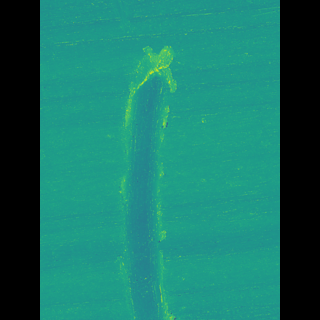Loch: (125, 42, 173, 320)
